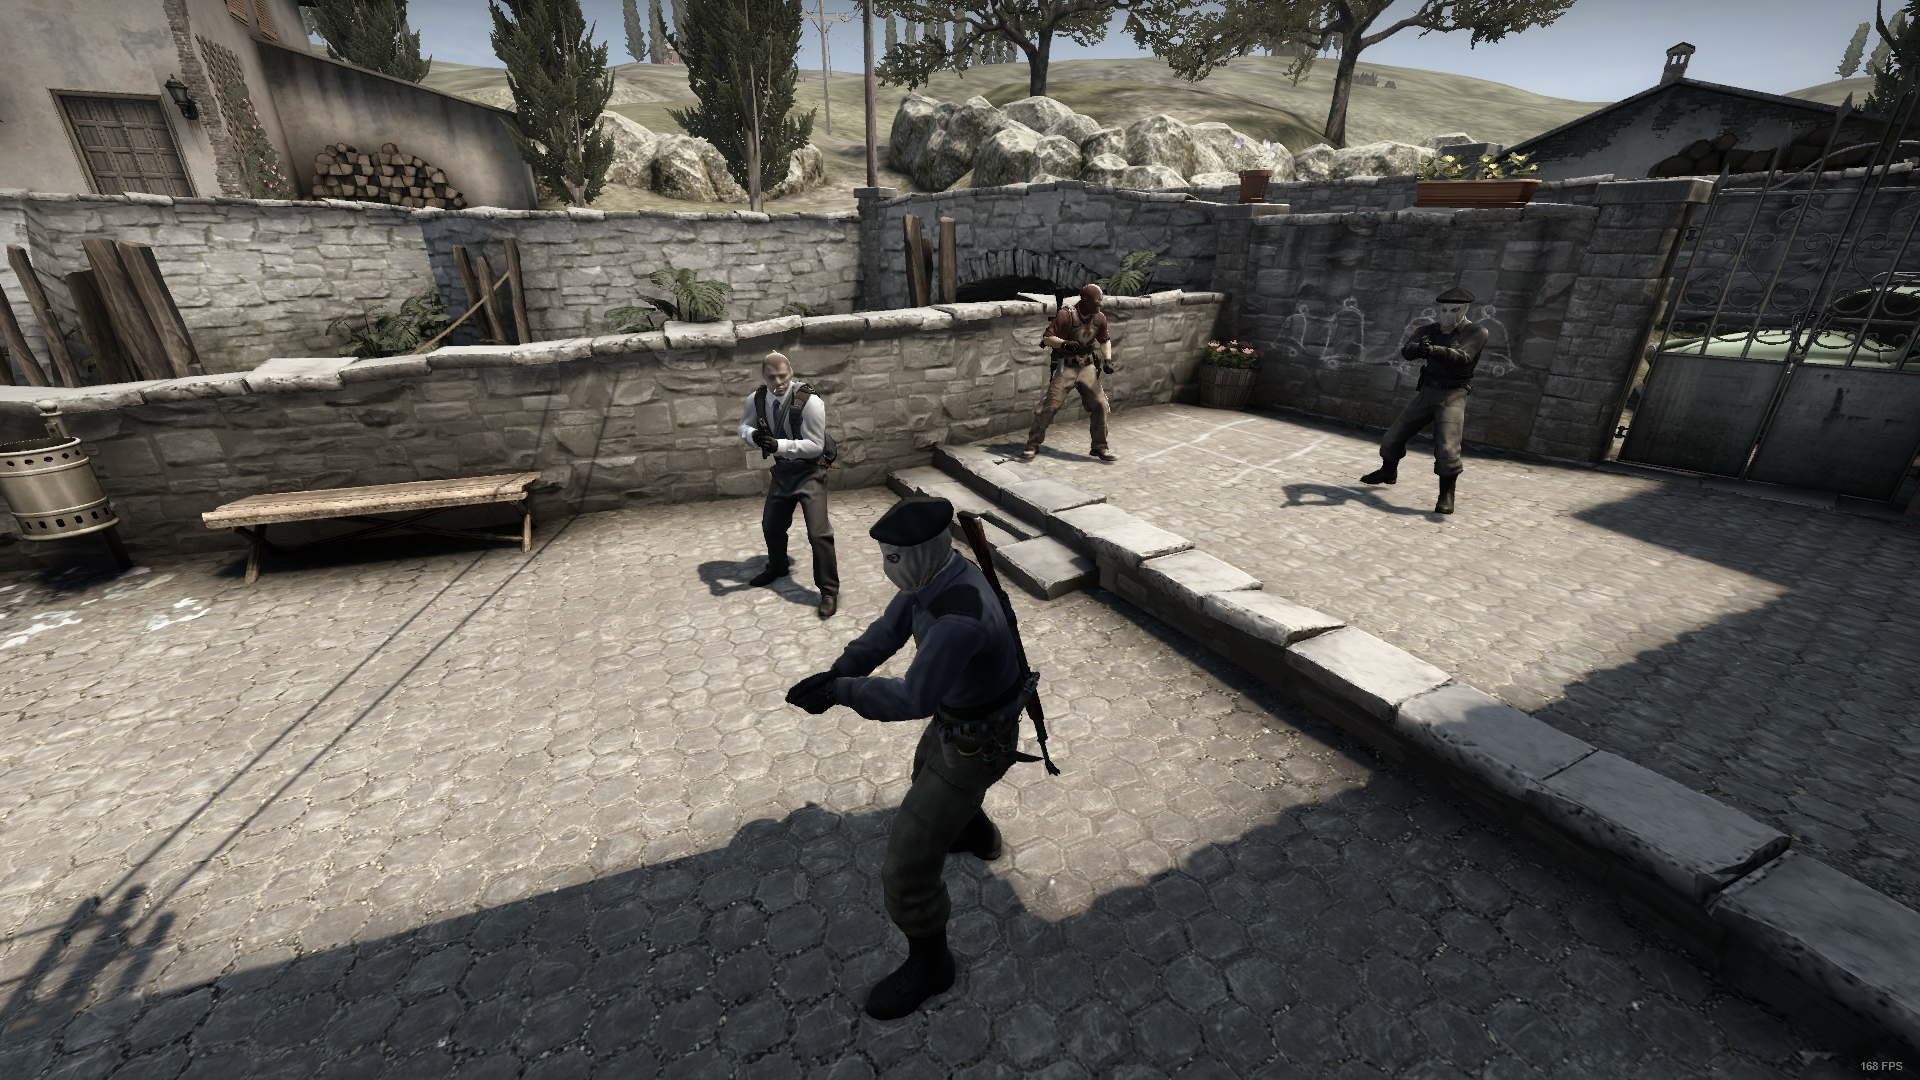t: (778, 492, 1058, 1033), (1346, 291, 1491, 520)
